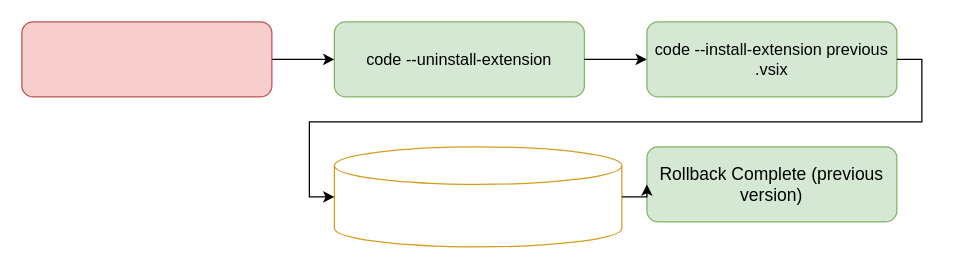
Some shapes in this 954 by 269 pixel diagram are drawn without their labels. Here are the shapes that lost their labels. From the top down, the box of each, then its label:
(21, 21, 272, 97): Detect deployment issue
(333, 146, 622, 247): Verify: profile migration intact, settings OK
